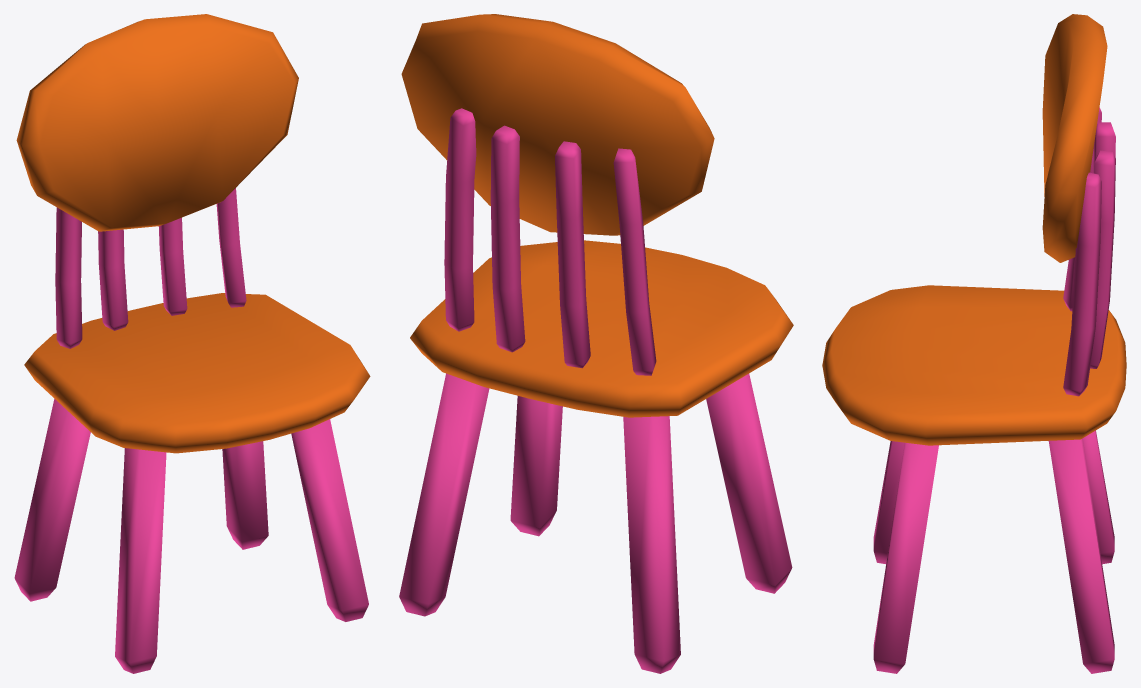
Rendered from cadeira.fbx.
The picture shows the model from 3 angles, left to right: view 1: azimuth 30°, elevation 25°; view 2: azimuth 150°, elevation 25°; view 3: azimuth 270°, elevation 25°; orthographic projection. The views are drawn at different scales.
Visible parts, largest first — view 1: Cadeira; view 2: Cadeira; view 3: Cadeira.
Part boxes in pixels (x1,y1,x2,y2): Cadeira: [14, 14, 370, 673]; Cadeira: [399, 14, 793, 673]; Cadeira: [822, 14, 1126, 673].
Bounding box in the file's own units: 462 × 885 × 422.
